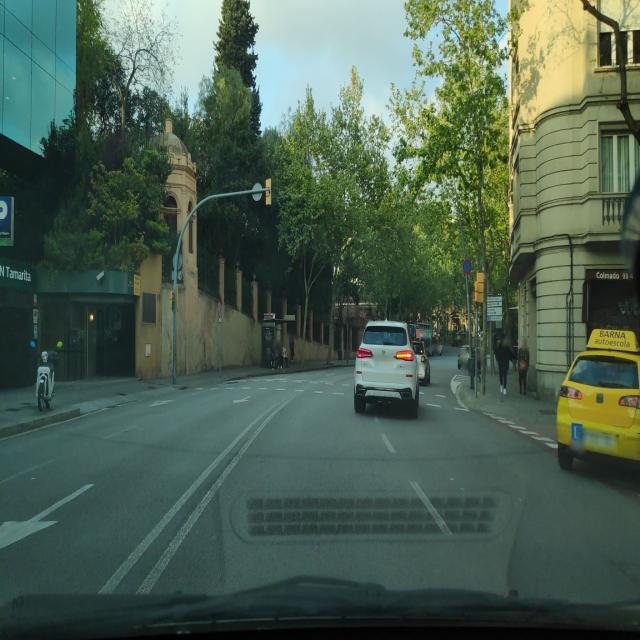forb_stopping: (462, 257, 472, 276)
